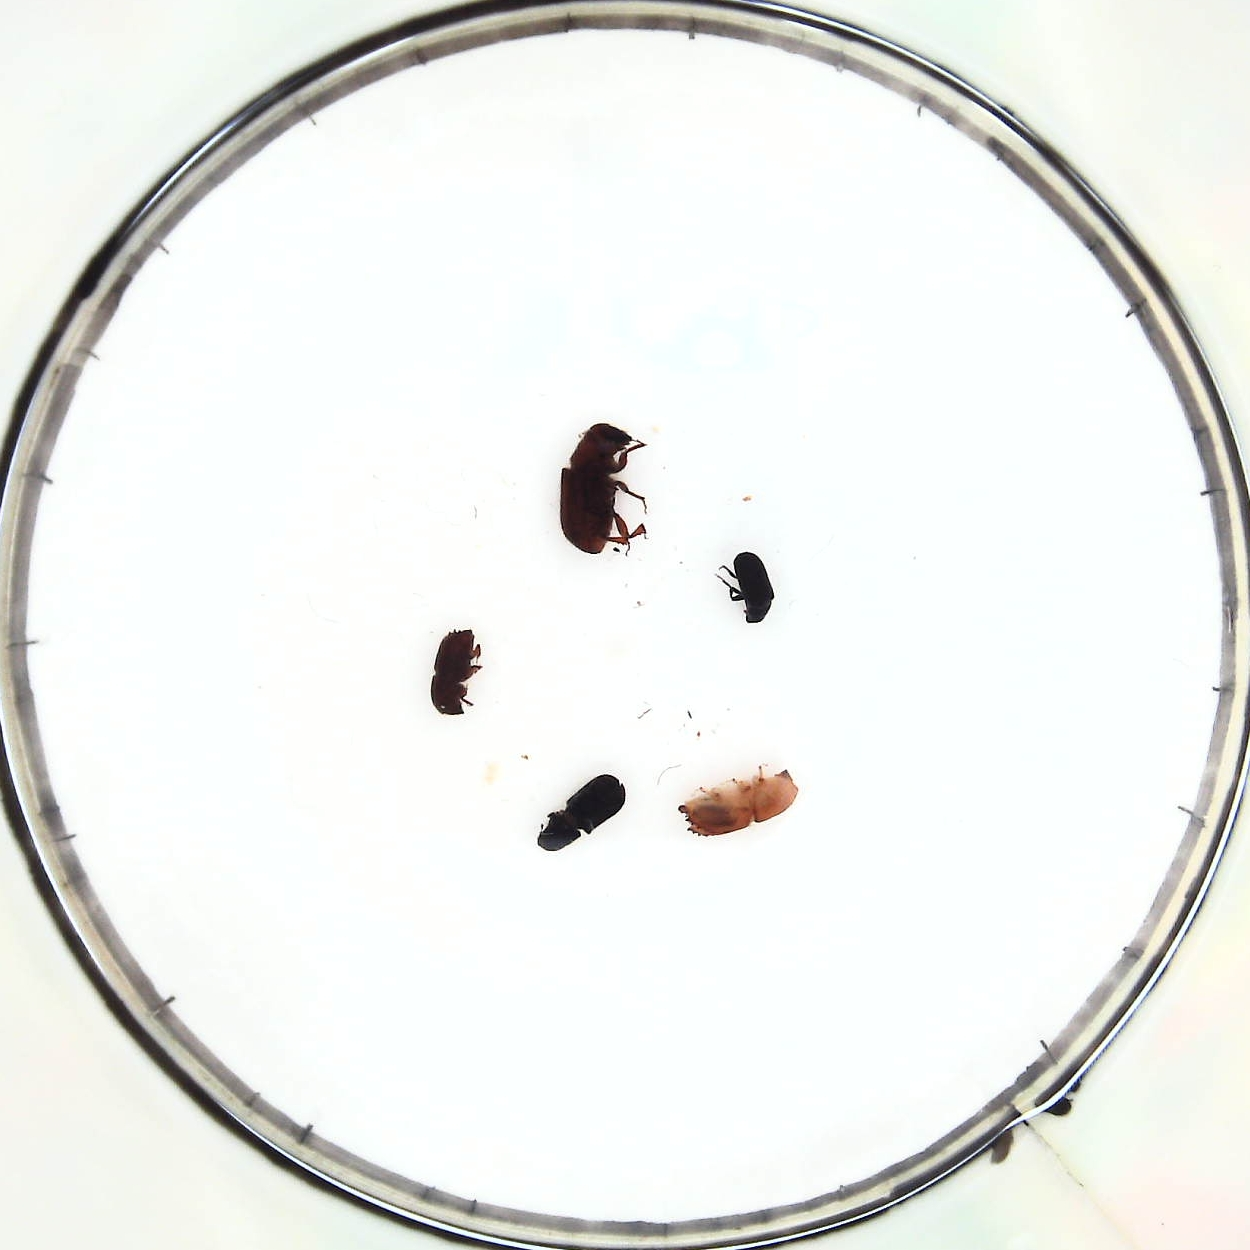Boerner: (682, 772, 800, 837)
Leconte: (557, 422, 642, 557)
Linnaeus: (430, 628, 483, 718)
armandi: (536, 772, 622, 849)
coleoptera: (718, 551, 774, 628)
